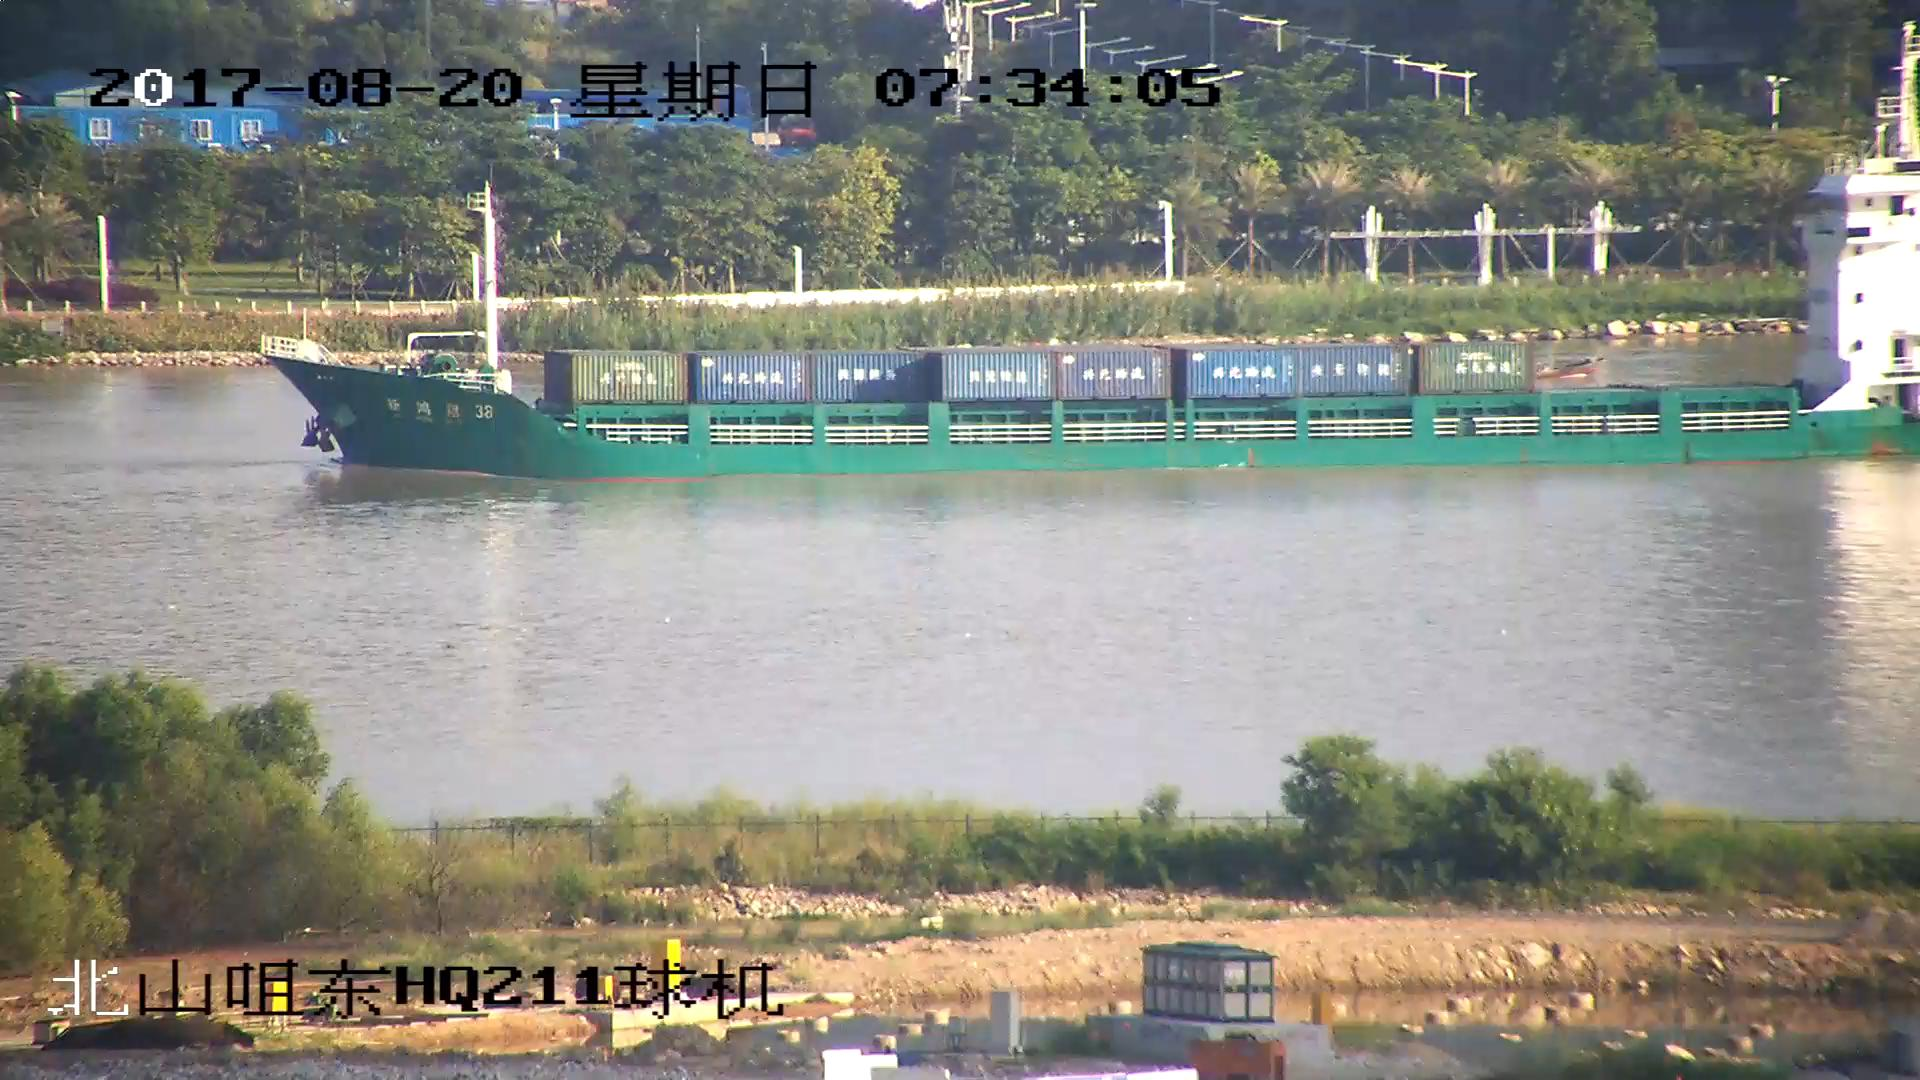general cargo ship: (260, 109, 1920, 477)
